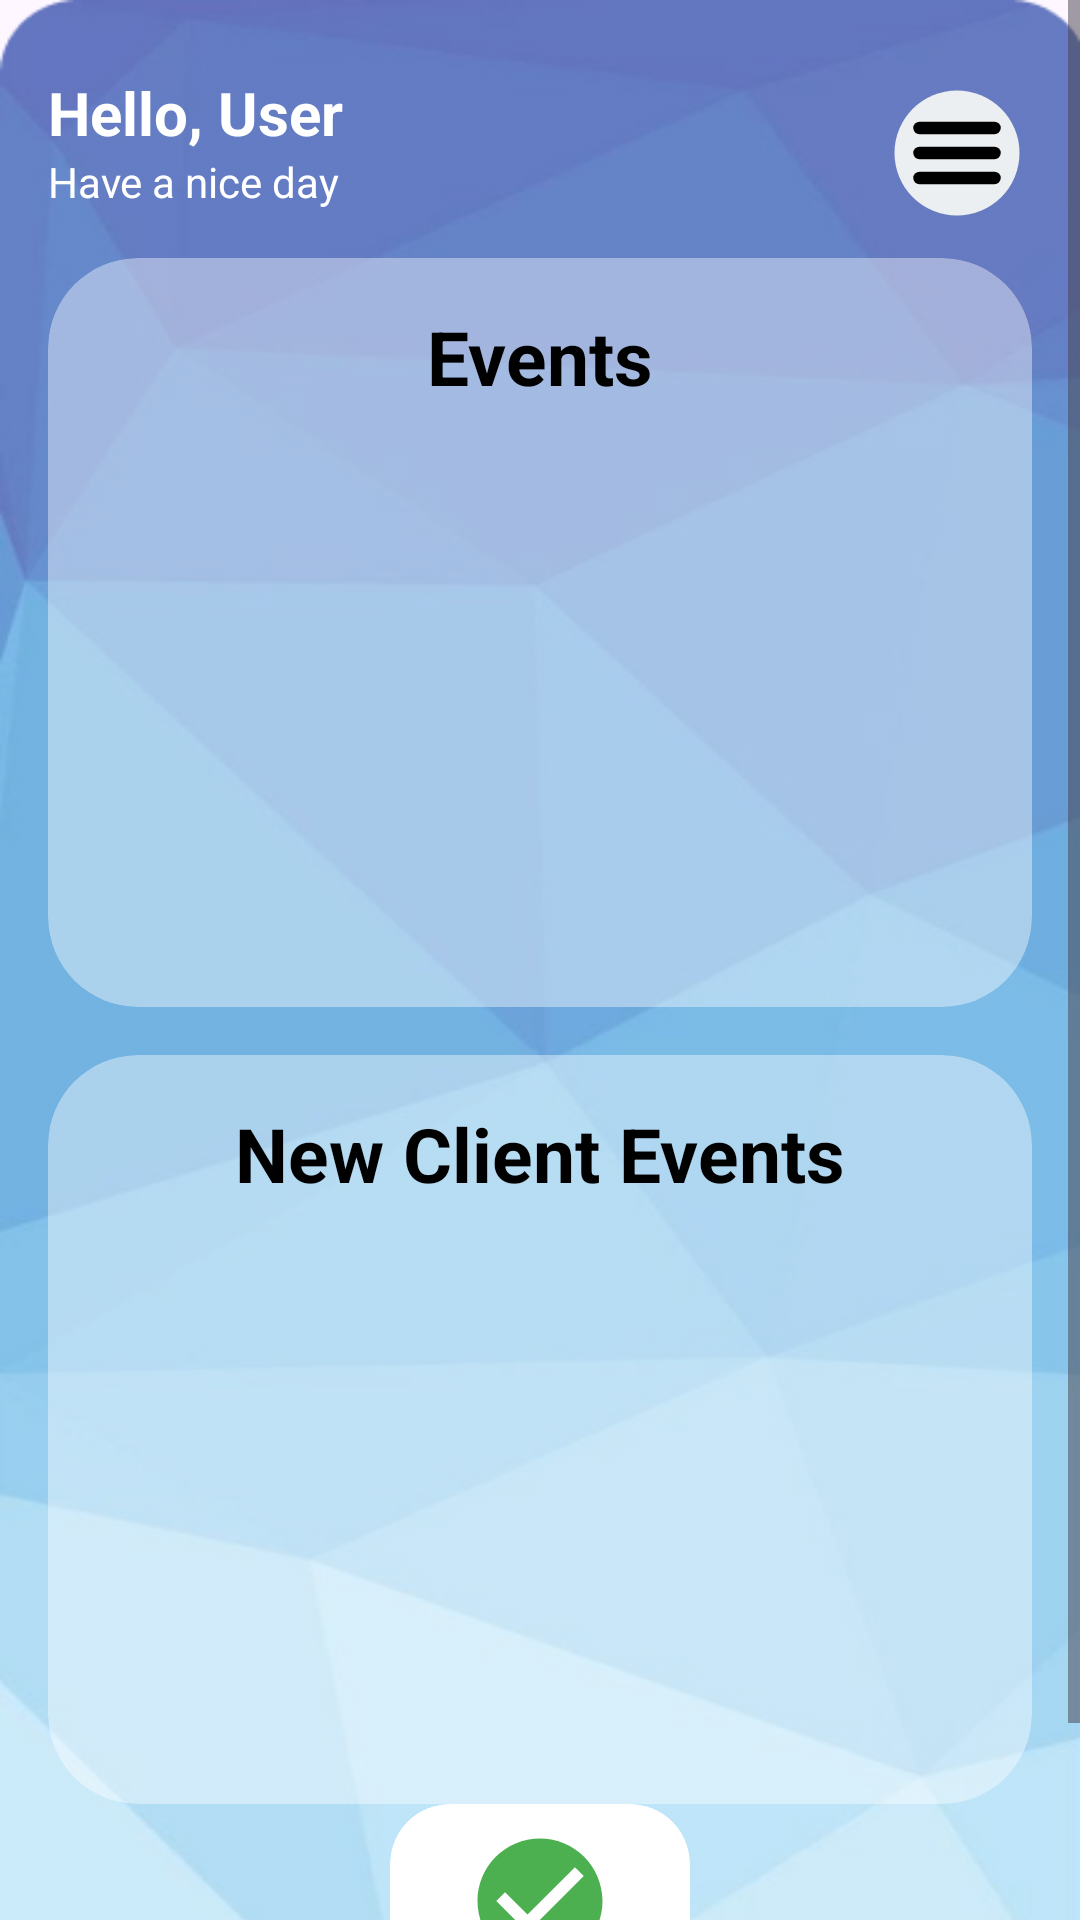

Point at icon controls on the screen. Image size 1080x1920, points as (x=x, y=y).
hamburger: (x=957, y=153)
